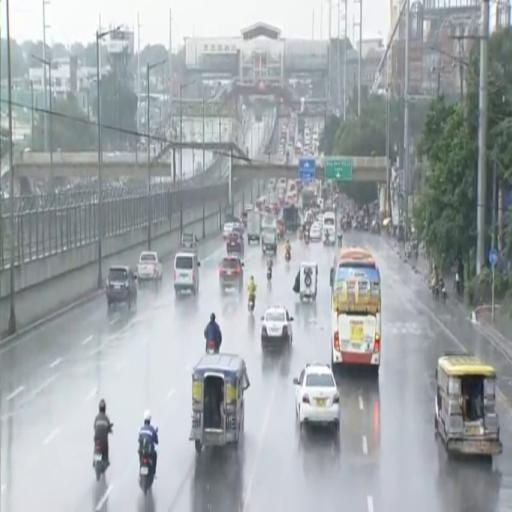bus: (331, 248, 381, 372)
car: (294, 363, 339, 429), (106, 266, 137, 309), (261, 307, 293, 346), (219, 255, 243, 292), (137, 252, 163, 283), (227, 231, 244, 254), (180, 232, 198, 248), (310, 222, 321, 241), (223, 222, 233, 241), (278, 178, 287, 187), (268, 179, 275, 189)
jeepney: (435, 354, 502, 456), (190, 354, 249, 453)
motorcycle: (93, 442, 107, 481), (140, 454, 154, 493), (432, 280, 447, 302), (205, 340, 219, 354), (439, 280, 447, 302), (454, 272, 461, 296), (248, 294, 255, 312), (405, 243, 411, 259), (337, 234, 343, 248), (267, 266, 272, 281), (304, 232, 309, 244), (285, 250, 290, 262), (324, 235, 329, 246), (364, 218, 368, 231)
truck: (247, 211, 261, 244), (283, 204, 299, 232), (262, 228, 278, 253)
